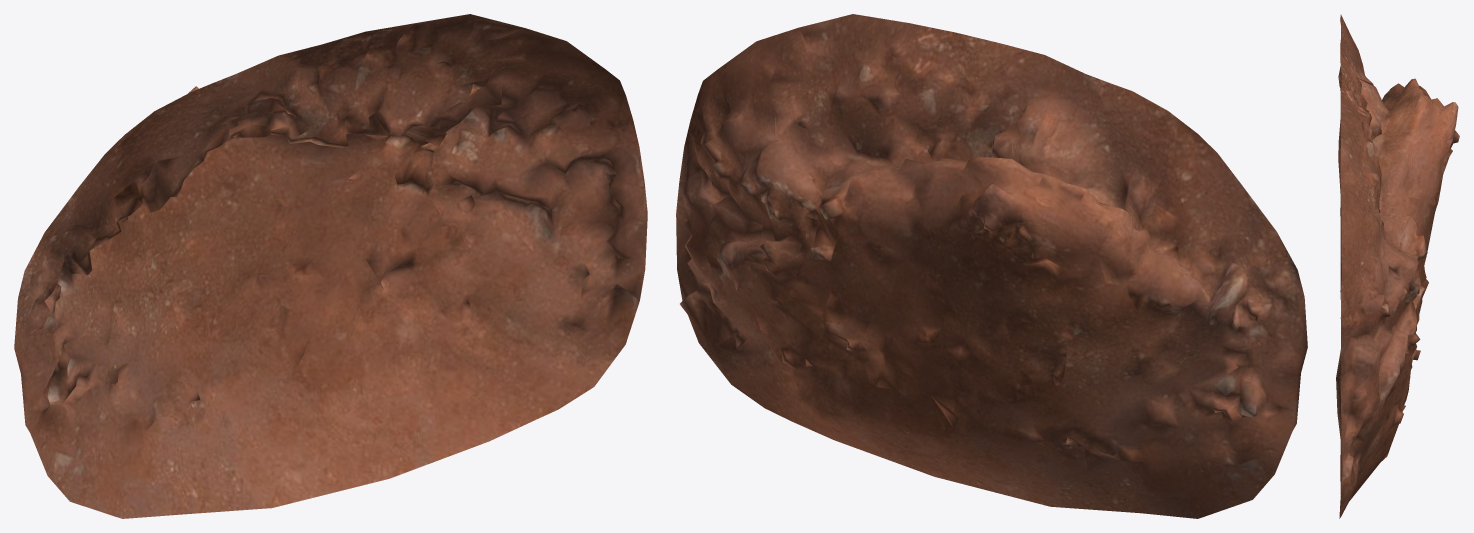
Rendered from sandstone.glb.
3 renders of one model, left to right at view 1: azimuth 30°, elevation 25°; view 2: azimuth 150°, elevation 25°; view 3: azimuth 270°, elevation 25°, orthographic. The views are drawn at different scales.
Visible parts, largest first — view 1: Megascans sandstone; view 2: Megascans sandstone; view 3: Megascans sandstone.
Boxes of the visible parts, x1,y1,x2,y2 form: Megascans sandstone: (14, 14, 647, 518); Megascans sandstone: (676, 14, 1307, 518); Megascans sandstone: (1336, 14, 1459, 518).
Size of the model in its own units: 3.11 by 2.13 by 0.6229.
Materials: 1 (1 with a texture image).
